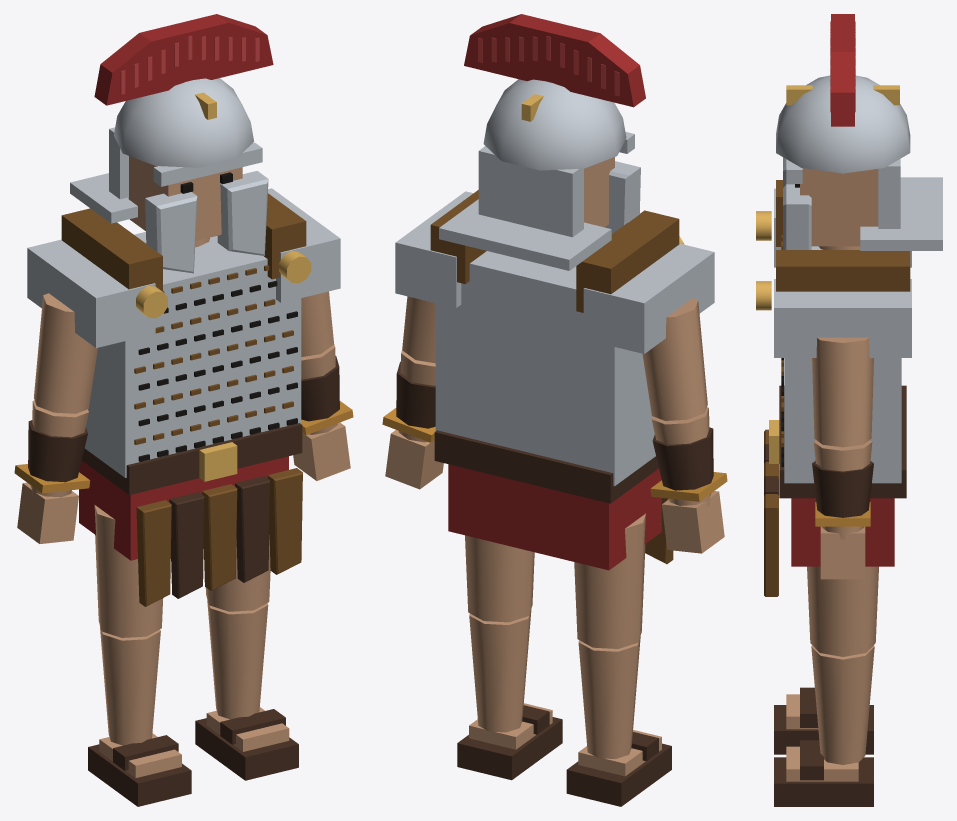
The model's file is roman-body.glb.
3 views of the same model, side by side, from view 1: azimuth 30°, elevation 25°; view 2: azimuth 150°, elevation 25°; view 3: azimuth 270°, elevation 25° (orthographic).
Parts seen in each view (by area): view 1: MailHauberk, HelmetCrown, Crest, MailShoulder-1, Shin1, Shin-1, UpperArm-1, Tunic, Belt, Thigh-1, ShoulderStrap-1, CheekGuard1 (+31 smaller); view 2: MailHauberk, Tunic, HelmetCrown, Crest, MailShoulder-1, HelmetBack, Belt, Thigh-1, Shin-1, Shin1, UpperArm-1, NeckGuard (+20 smaller); view 3: HelmetCrown, MailShoulder1, MailHauberk, UpperArm1, Shin1, ShoulderStrap1, Thigh1, Face, NeckGuard, Tunic, Sandal1, Crest (+18 smaller).
Part boxes in pixels (left/top/right/bottom): MailHauberk: left=84, top=232, right=301, bottom=477; HelmetCrown: left=114, top=78, right=253, bottom=167; Crest: left=94, top=14, right=273, bottom=105; MailShoulder-1: left=27, top=239, right=155, bottom=347; Shin1: left=207, top=598, right=268, bottom=719; Shin-1: left=99, top=625, right=160, bottom=745; UpperArm-1: left=34, top=293, right=97, bottom=413; Tunic: left=79, top=456, right=288, bottom=560; Belt: left=82, top=423, right=302, bottom=494; Thigh-1: left=94, top=505, right=163, bottom=637; ShoulderStrap-1: left=61, top=208, right=162, bottom=291; CheekGuard1: left=217, top=171, right=268, bottom=255; MailHauberk: left=435, top=251, right=655, bottom=486; Tunic: left=448, top=464, right=661, bottom=570; HelmetCrown: left=483, top=79, right=626, bottom=170; Crest: left=464, top=14, right=645, bottom=107; MailShoulder-1: left=583, top=243, right=714, bottom=353; HelmetBack: left=478, top=146, right=583, bottom=237; Belt: left=434, top=430, right=658, bottom=503; Thigh-1: left=574, top=513, right=645, bottom=648; Shin-1: left=578, top=636, right=640, bottom=758; Shin1: left=469, top=610, right=531, bottom=732; UpperArm-1: left=642, top=298, right=707, bottom=420; NeckGuard: left=439, top=199, right=611, bottom=270; HelmetCrown: left=776, top=75, right=910, bottom=173; MailShoulder1: left=774, top=279, right=911, bottom=357; MailHauberk: left=784, top=246, right=901, bottom=483; UpperArm1: left=812, top=337, right=873, bottom=447; Shin1: left=811, top=645, right=874, bottom=764; ShoulderStrap1: left=776, top=250, right=910, bottom=291; Thigh1: left=807, top=566, right=878, bottom=656; Face: left=800, top=168, right=878, bottom=246; NeckGuard: left=860, top=177, right=942, bottom=250; Tunic: left=791, top=498, right=894, bottom=566; Sandal1: left=774, top=757, right=873, bottom=806; Crest: left=831, top=14, right=854, bottom=126.
Bounding box in the file's own units: 1.04 × 2.35 × 0.5425.
